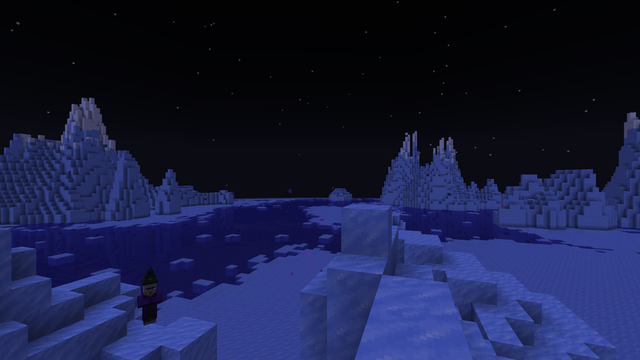sorcieres: (138, 277, 159, 326)
